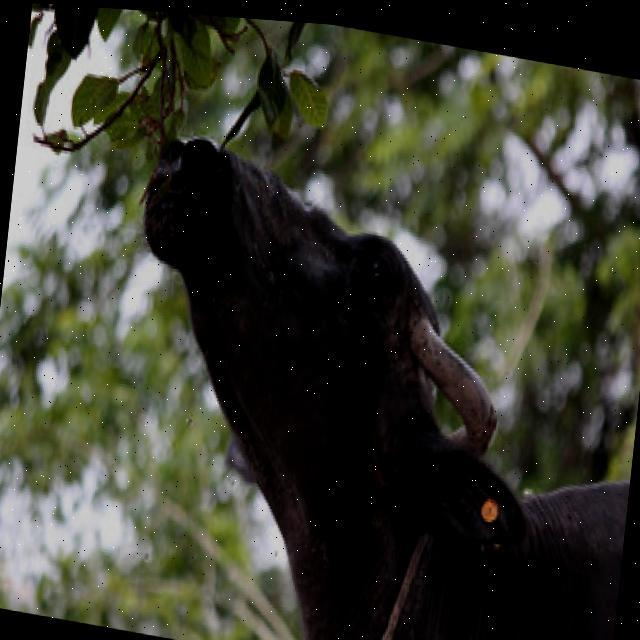Buffalo: (94, 114, 640, 640)
